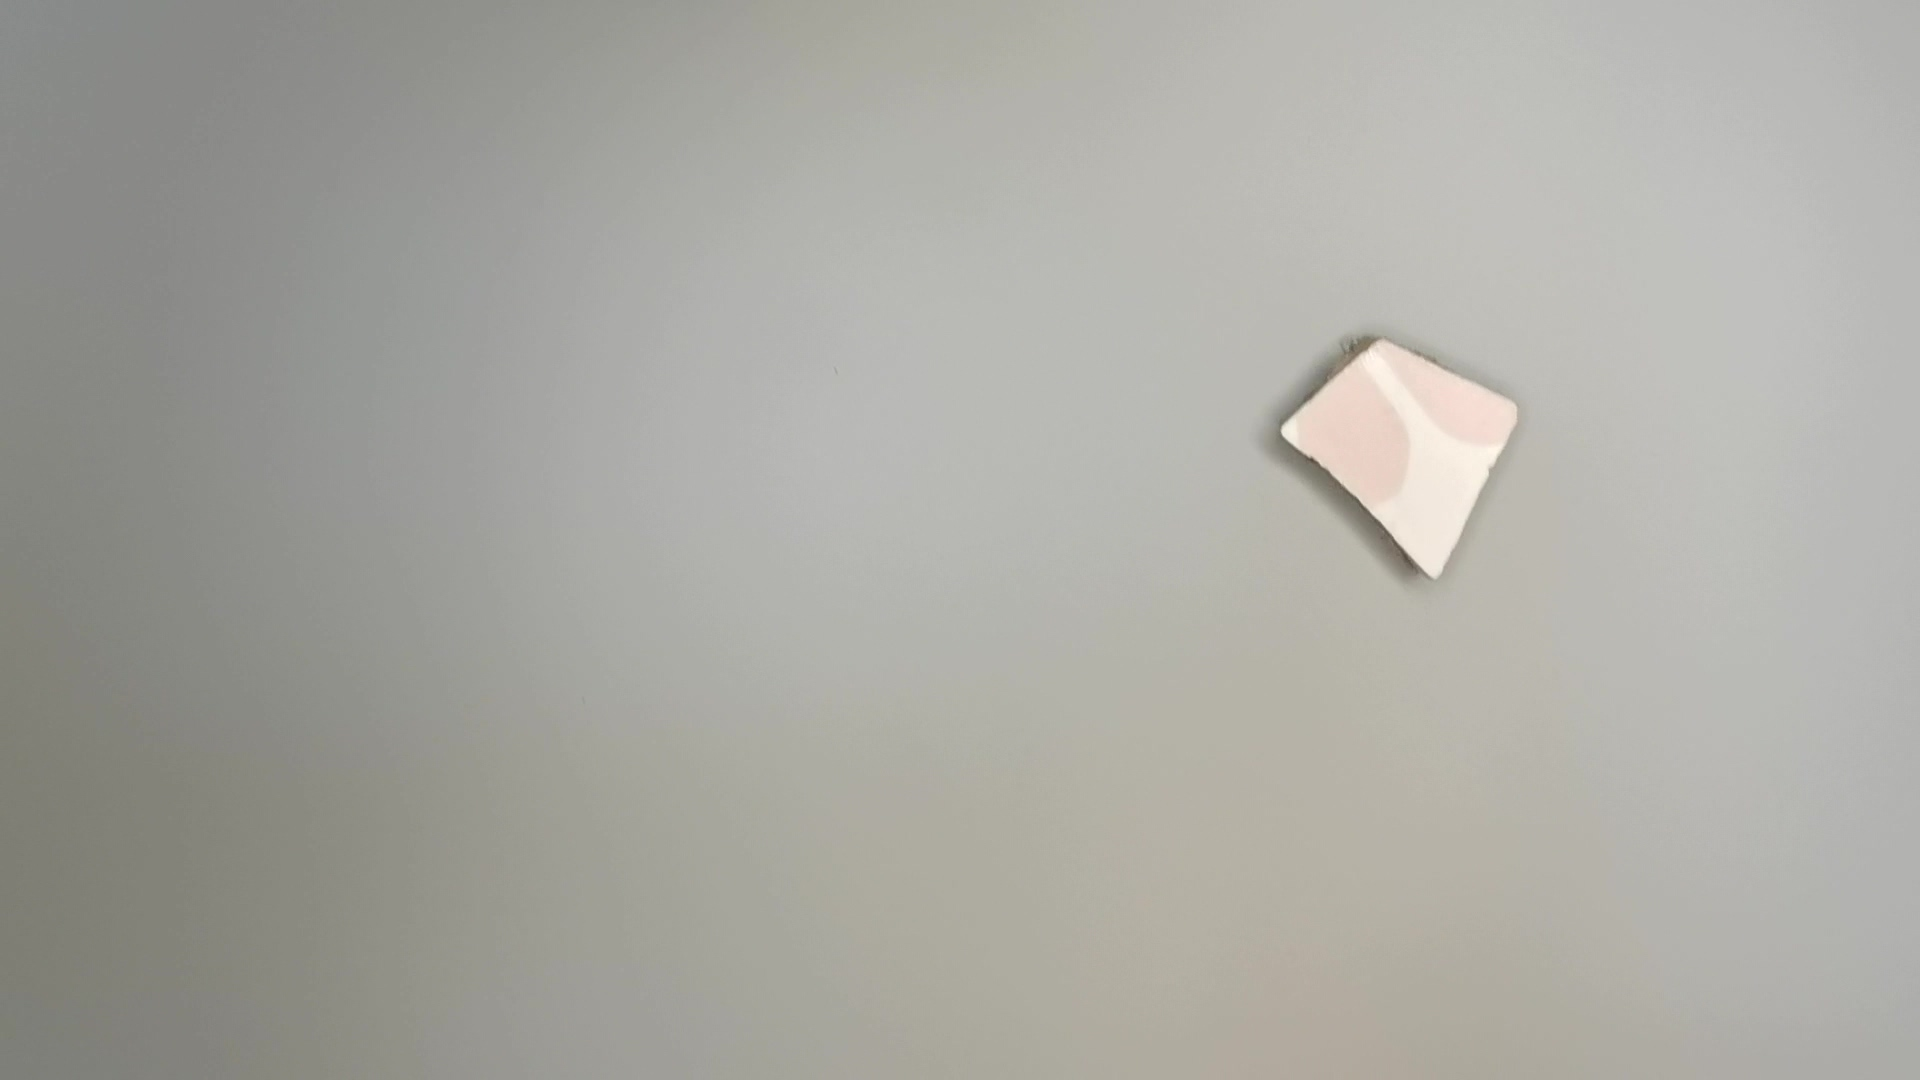ceramic: (1263, 334, 1522, 593)
